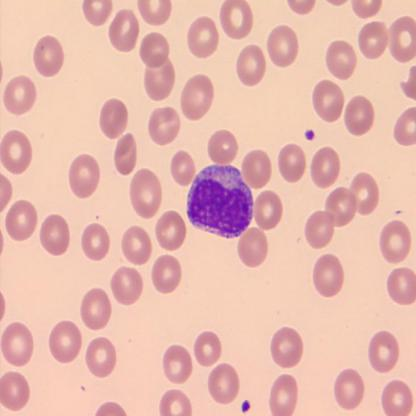Metamyelocyte: (184, 162, 256, 242)
